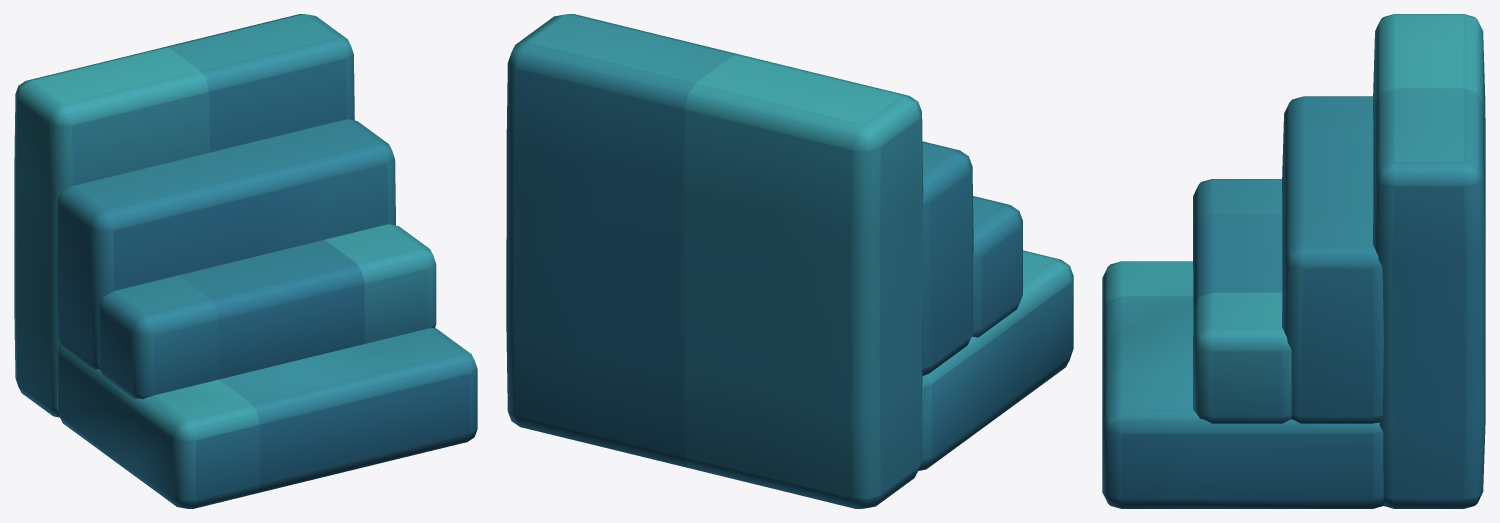
File: IceBricks_Stair_Straight.fbx
The picture shows the model from 3 angles, left to right: view 1: azimuth 30°, elevation 25°; view 2: azimuth 150°, elevation 25°; view 3: azimuth 270°, elevation 25°; orthographic projection. The views are drawn at different scales.
Visible parts, largest first — view 1: IceBricks_Stair_Straight_LOD0; view 2: IceBricks_Stair_Straight_LOD0; view 3: IceBricks_Stair_Straight_LOD0.
Boxes of the visible parts, bbox=[...] form: IceBricks_Stair_Straight_LOD0: bbox=[14, 14, 477, 508]; IceBricks_Stair_Straight_LOD0: bbox=[506, 14, 1073, 508]; IceBricks_Stair_Straight_LOD0: bbox=[1102, 14, 1485, 508].
Size of what is drawn, in the model's own units: 1.06 by 1.05 by 1.05.
